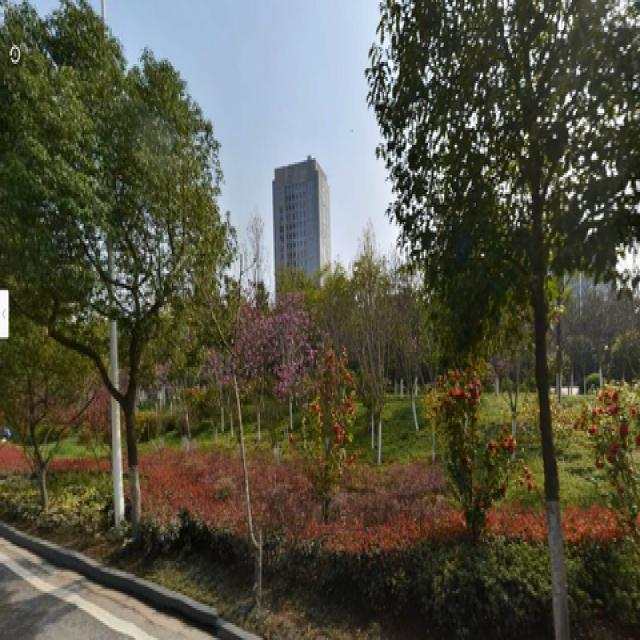cinn: (411, 19, 612, 595), (21, 36, 180, 529)
